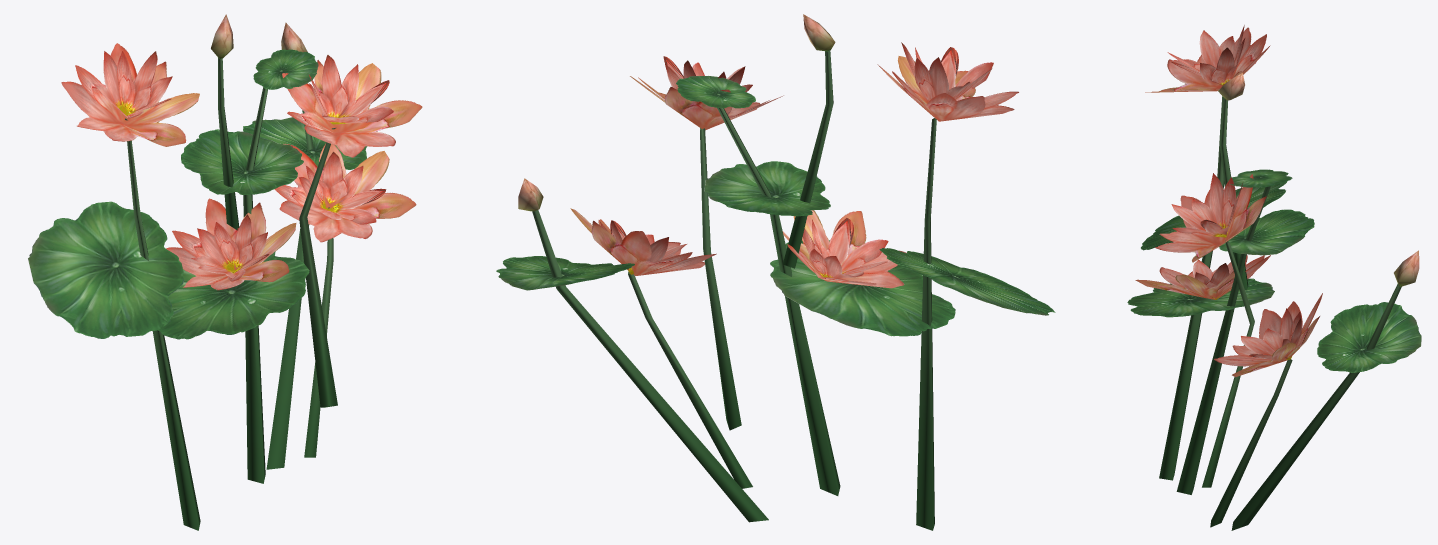
The model's file is M5_P_chuan02.FBX.
The picture shows the model from 3 angles, left to right: view 1: azimuth 30°, elevation 25°; view 2: azimuth 150°, elevation 25°; view 3: azimuth 270°, elevation 25°; orthographic projection. The views are drawn at different scales.
Parts seen in each view (by area): view 1: M5_P_chuan02; view 2: M5_P_chuan02; view 3: M5_P_chuan02.
Part boxes in pixels (x1=…): M5_P_chuan02: x1=28, y1=14, x2=422, y2=530; M5_P_chuan02: x1=496, y1=14, x2=1055, y2=530; M5_P_chuan02: x1=1127, y1=25, x2=1421, y2=530.
Bounding box in the file's own units: 245 × 261 × 166.
